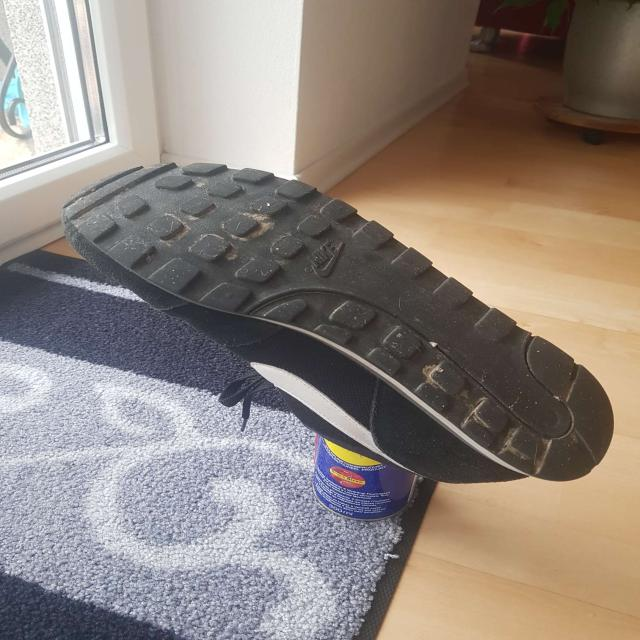shoe: (58, 162, 616, 485)
